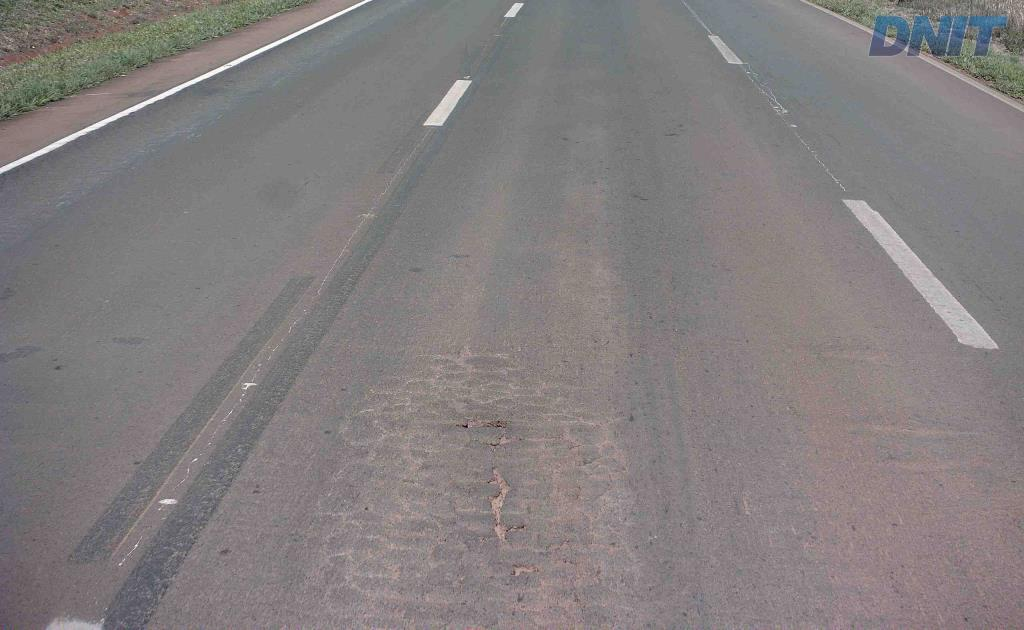crack: (455, 412, 513, 452)
pothole: (482, 464, 531, 545), (448, 414, 521, 455), (506, 558, 543, 581)
